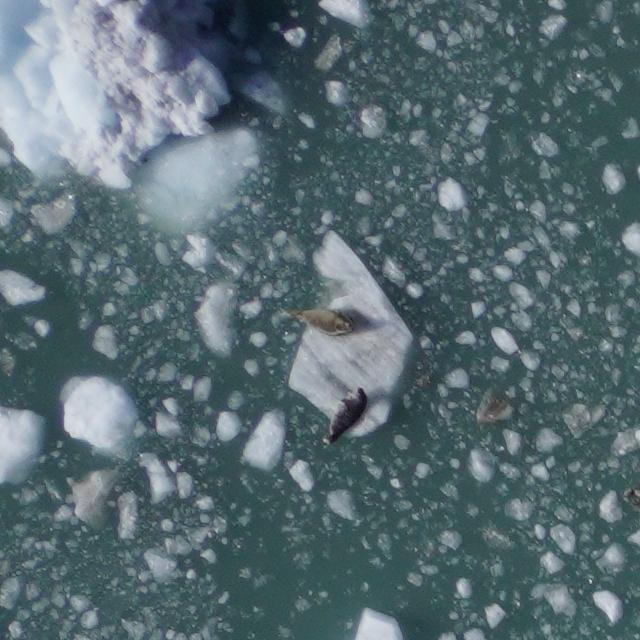seal: (317, 382, 373, 449), (281, 304, 360, 340)
